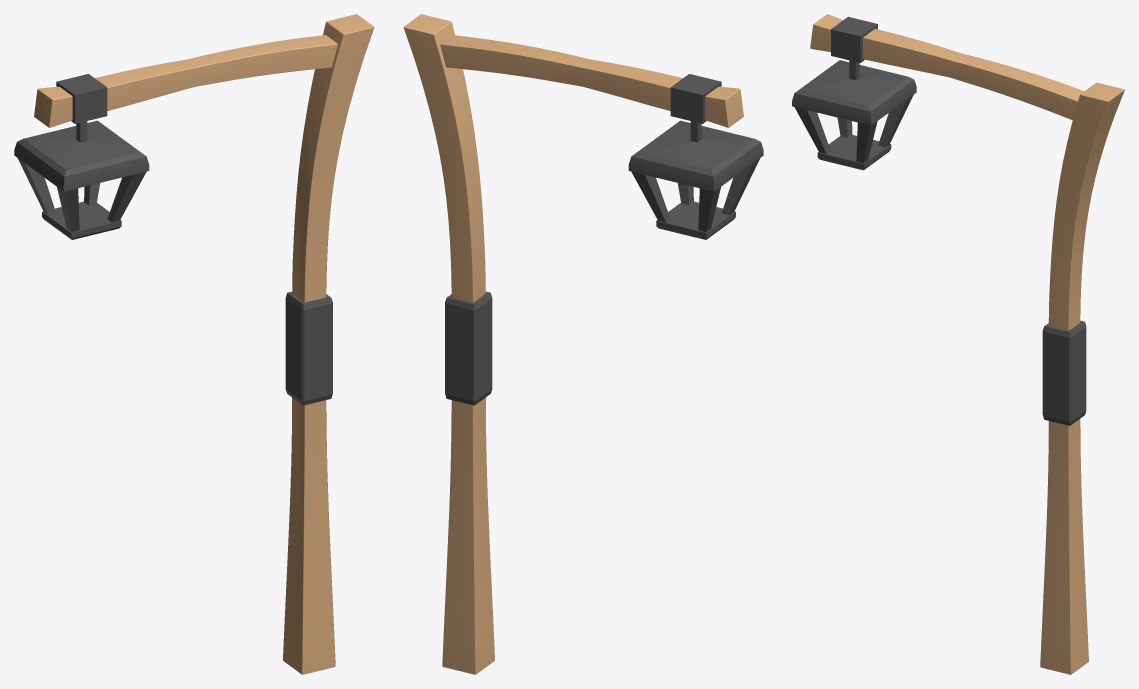
File: LambaEtraf.fbx
The picture shows the model from 3 angles, left to right: view 1: azimuth 30°, elevation 25°; view 2: azimuth 150°, elevation 25°; view 3: azimuth 330°, elevation 25°; orthographic projection. The views are drawn at different scales.
Parts seen in each view (by area): view 1: LambaBeden, LambaÇerçeve; view 2: LambaBeden, LambaÇerçeve; view 3: LambaBeden, LambaÇerçeve.
Part boxes in pixels (x1,y1,x2,y2): LambaBeden: (34, 14, 374, 674); LambaÇerçeve: (14, 74, 149, 239); LambaBeden: (403, 14, 743, 674); LambaÇerçeve: (628, 74, 763, 239); LambaBeden: (810, 14, 1124, 674); LambaÇerçeve: (792, 16, 916, 170).
Bounding box in the file's own units: 220 × 409 × 57.67.
